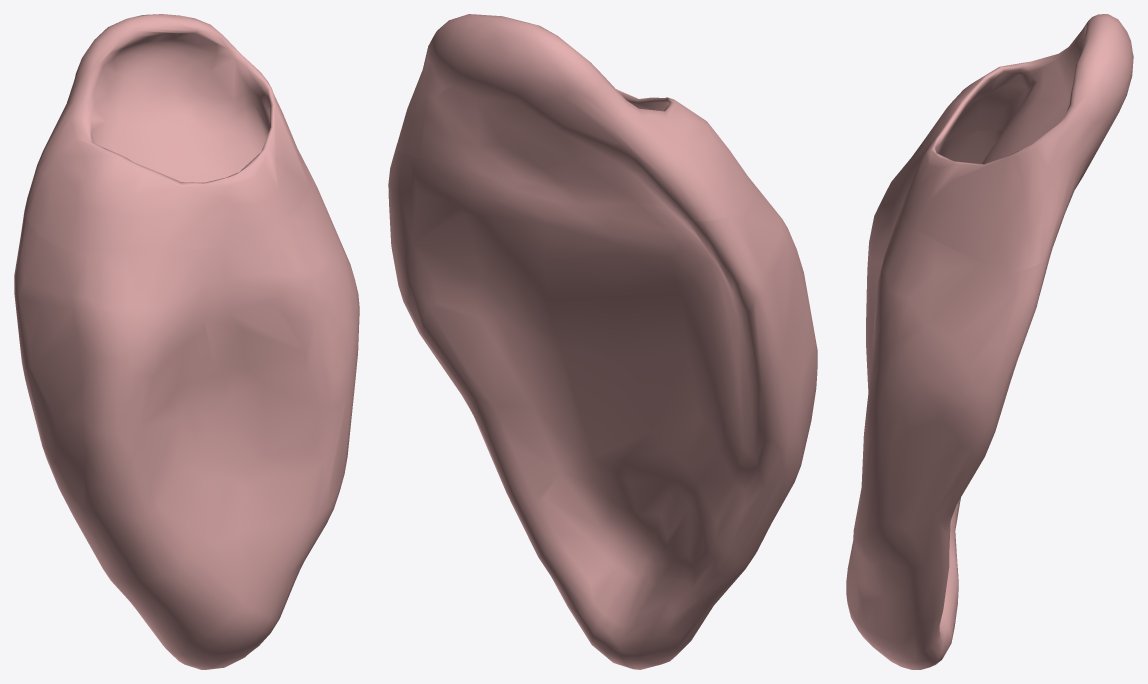
Rendered from vagina.glb.
The picture shows the model from 3 angles, left to right: view 1: azimuth 30°, elevation 25°; view 2: azimuth 150°, elevation 25°; view 3: azimuth 270°, elevation 25°; orthographic projection. The views are drawn at different scales.
Parts seen in each view (by area): view 1: VH_F_vagina; view 2: VH_F_vagina; view 3: VH_F_vagina.
Boxes of the visible parts, x1,y1,x2,y2 form: VH_F_vagina: (14,14,359,669); VH_F_vagina: (388,14,817,669); VH_F_vagina: (846,14,1133,669).
Size of the model in its own units: 0.0445 by 0.0778 by 0.0313.
